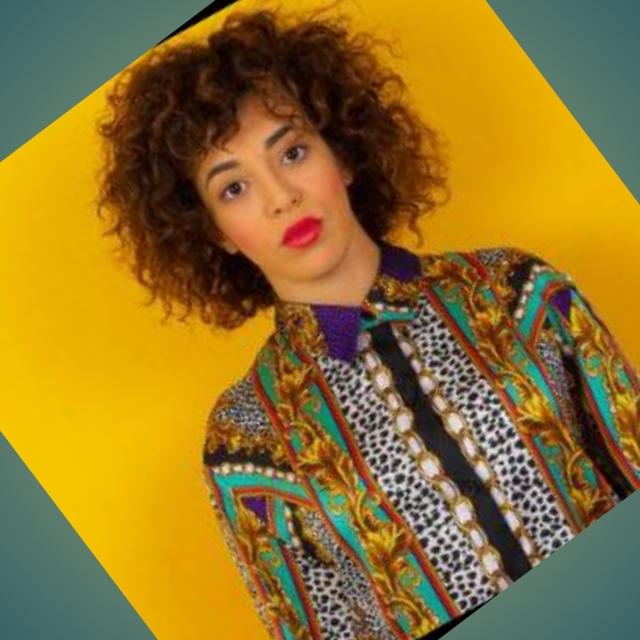Natural: (148, 96, 402, 286)
